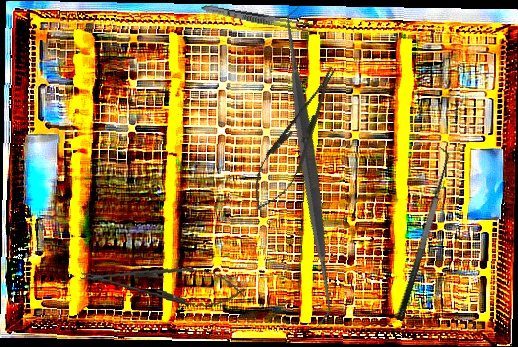Dressing Forceps: (200, 2, 315, 34)
Needle Holder: (241, 59, 351, 219), (78, 255, 247, 312)
Spatula Surgical: (146, 4, 471, 328), (381, 146, 460, 322)
